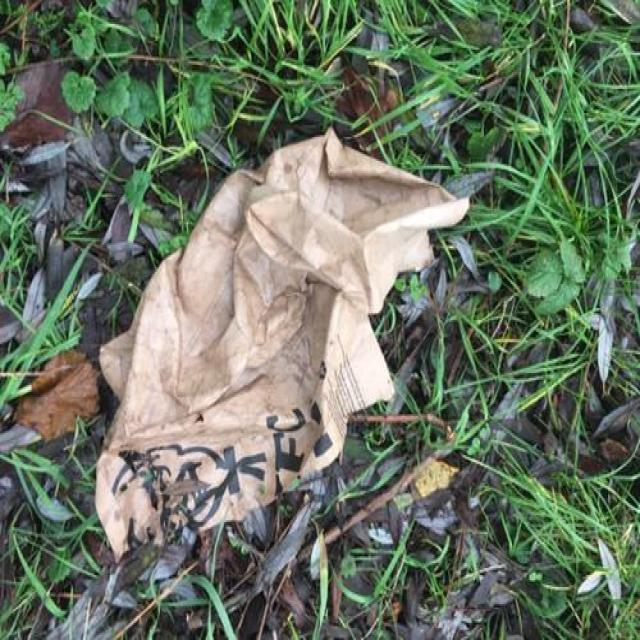Paper: (90, 124, 472, 566)
